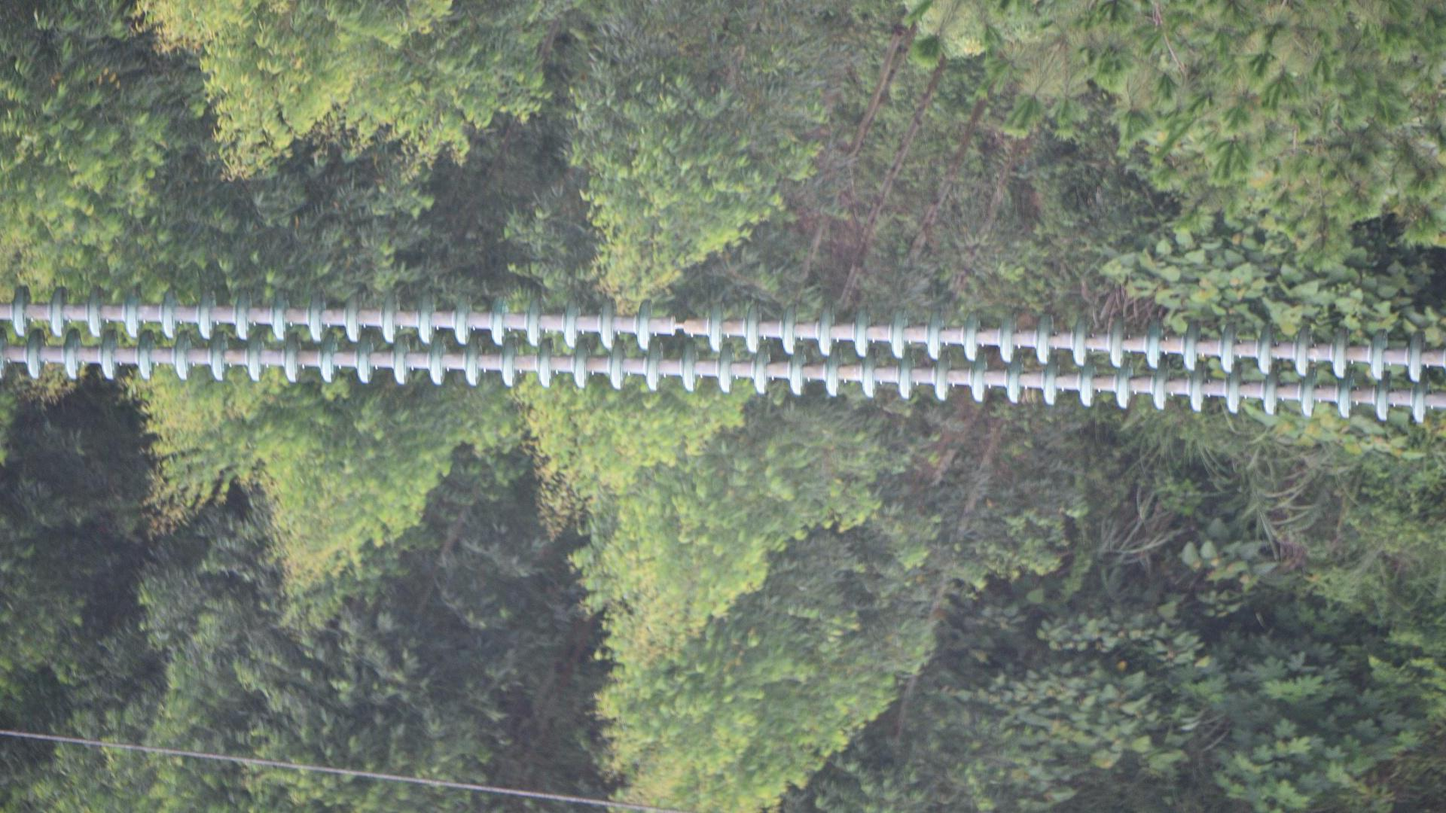insulator: (1, 276, 1446, 432)
insulator_stringdrop: (632, 295, 730, 355)
